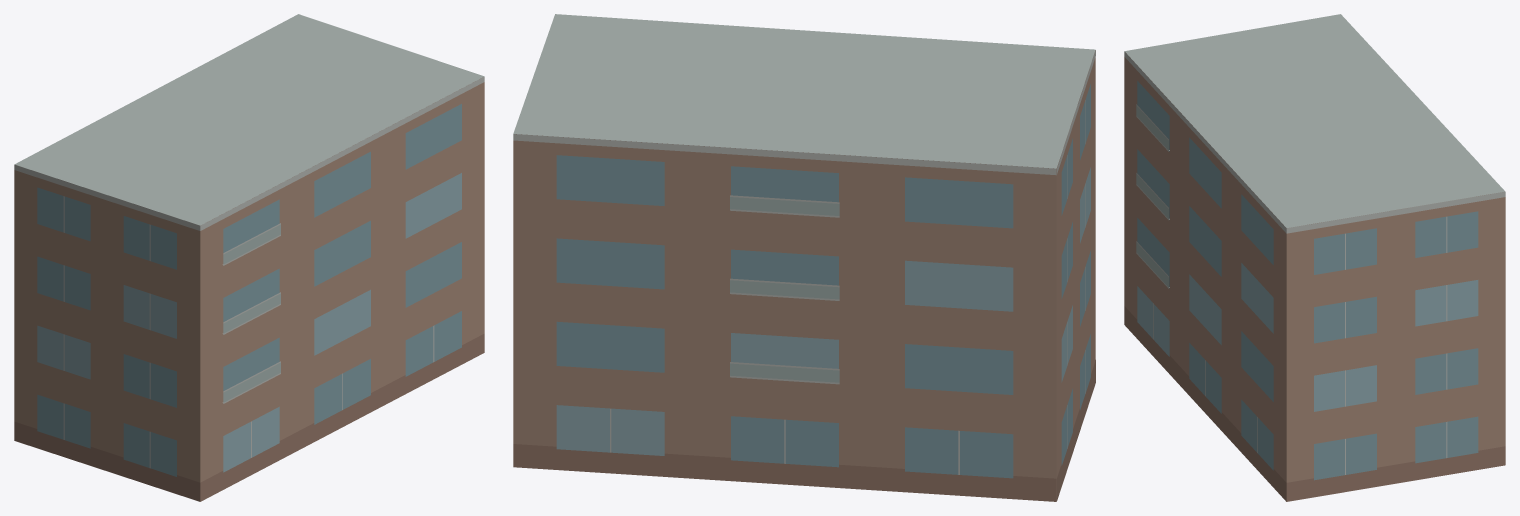
File: survey-upis-32898968.glb
The picture shows the model from 3 angles, left to right: view 1: azimuth 30°, elevation 25°; view 2: azimuth 150°, elevation 25°; view 3: azimuth 270°, elevation 25°; orthographic projection. The views are drawn at different scales.
Visible parts, largest first — view 1: survey-upis-32898968.tmp; view 2: survey-upis-32898968.tmp; view 3: survey-upis-32898968.tmp.
Part boxes in pixels (left/top/right/bottom): survey-upis-32898968.tmp: left=14, top=14, right=484, bottom=501; survey-upis-32898968.tmp: left=513, top=14, right=1095, bottom=501; survey-upis-32898968.tmp: left=1124, top=14, right=1505, bottom=501.
Size of the model in its own units: 20.66 by 12.3 by 15.53.
